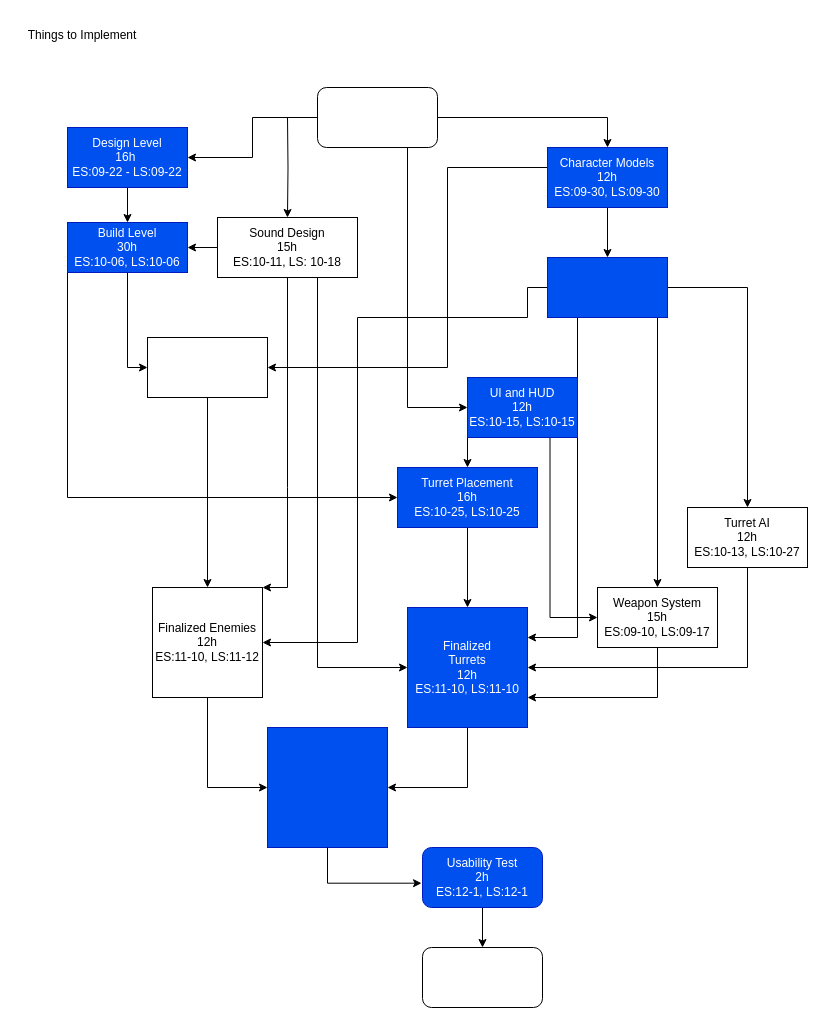
The diagram is 825 pixels wide and 1025 high, and some of its shapes have lost their labels. Here are the shapes that lost their labels. From the top down, the centre of each, then its label:
the point at 377,117: Finalized Game Idea
the point at 607,287: Animated Characters 12h ES:10-8, LS:10-8
the point at 207,367: Enemy AI 18h ES:10-15, LS:10-20
the point at 327,787: Combine Work 8h ES:11-24, LS:11-24
the point at 482,977: Final Game Due 2025-12-08
